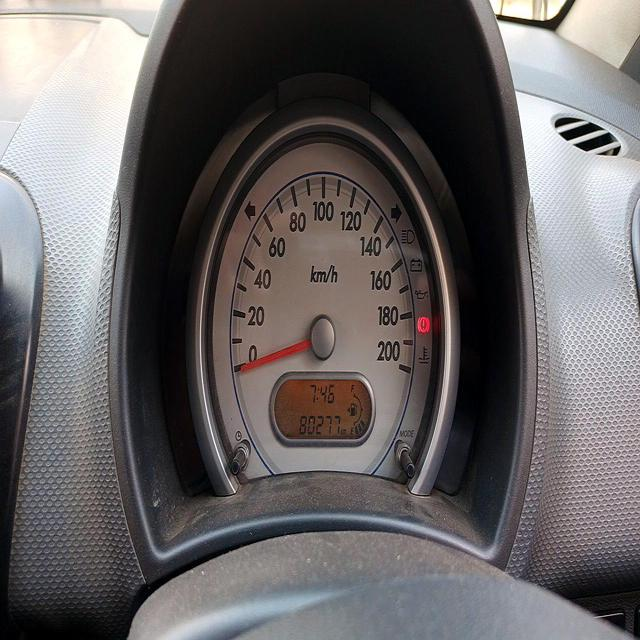odometer: (297, 414, 342, 437)
